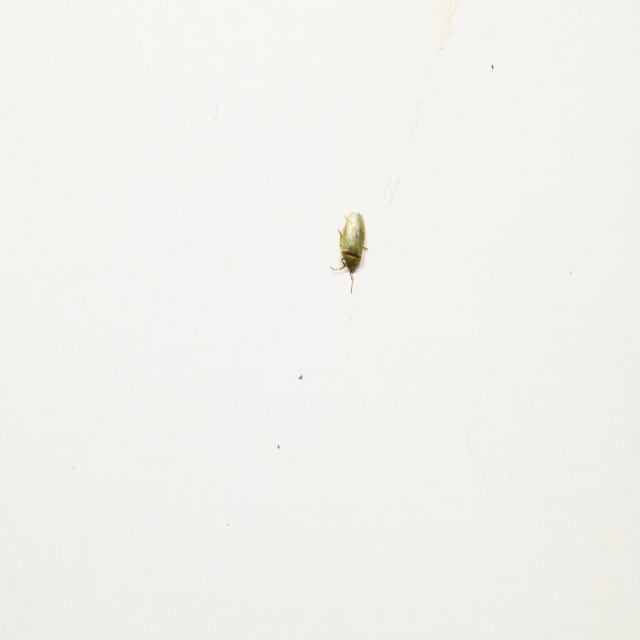stinkbug: (331, 211, 367, 296)
